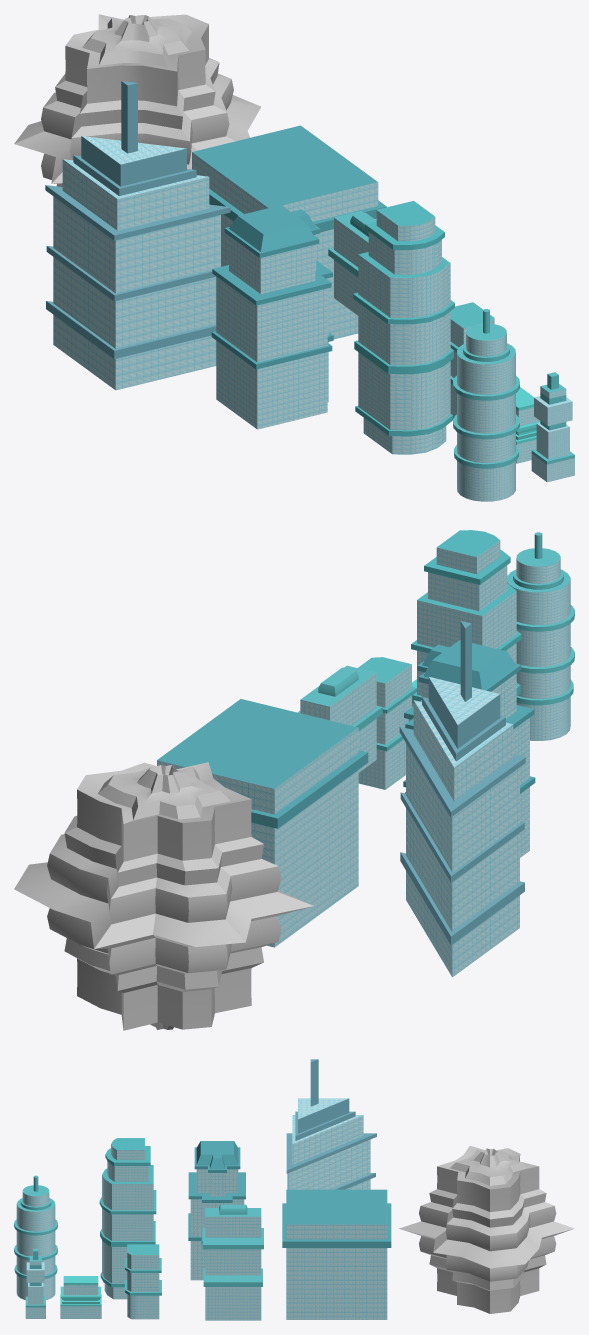
The model's file is low_bina.fbx.
3 views of the same model, one above another, from view 1: azimuth 30°, elevation 25°; view 2: azimuth 150°, elevation 25°; view 3: azimuth 270°, elevation 25° (orthographic). The views are drawn at different scales.
Visible parts, largest first — view 1: bina9_, bina10_, bina7_, bina5_, bina8_, bina4_, bina1_, bina6_, bina3_, bina2_; view 2: bina10_, bina9_, bina8_, bina5_, bina4_, bina7_, bina3_, bina6_; view 3: bina10_, bina8_, bina9_, bina6_, bina5_, bina7_, bina4_, bina3_, bina2_, bina1_.
Part boxes in pixels (<box>): bina9_: <box>45,81,230,390</box>; bina10_: <box>14,14,260,186</box>; bina7_: <box>211,205,333,429</box>; bina5_: <box>353,200,454,454</box>; bina8_: <box>192,125,386,339</box>; bina4_: <box>453,309,519,501</box>; bina1_: <box>531,372,574,482</box>; bina6_: <box>328,211,376,315</box>; bina3_: <box>450,302,494,418</box>; bina2_: <box>516,387,540,463</box>; bina10_: <box>14,762,313,1030</box>; bina9_: <box>399,621,525,977</box>; bina8_: <box>157,699,368,947</box>; bina5_: <box>411,530,521,703</box>; bina4_: <box>507,532,574,740</box>; bina7_: <box>403,640,535,857</box>; bina3_: <box>358,657,416,789</box>; bina6_: <box>298,665,382,772</box>; bina10_: <box>399,1146,574,1313</box>; bina8_: <box>282,1189,391,1319</box>; bina9_: <box>286,1059,376,1189</box>; bina6_: <box>202,1204,263,1320</box>; bina5_: <box>99,1138,156,1299</box>; bina7_: <box>188,1141,245,1280</box>; bina4_: <box>14,1175,57,1300</box>; bina3_: <box>125,1244,161,1319</box>; bina2_: <box>60,1276,101,1318</box>; bina1_: <box>25,1249,45,1318</box>.
Bounding box in the file's own units: 163 × 157 × 400.
